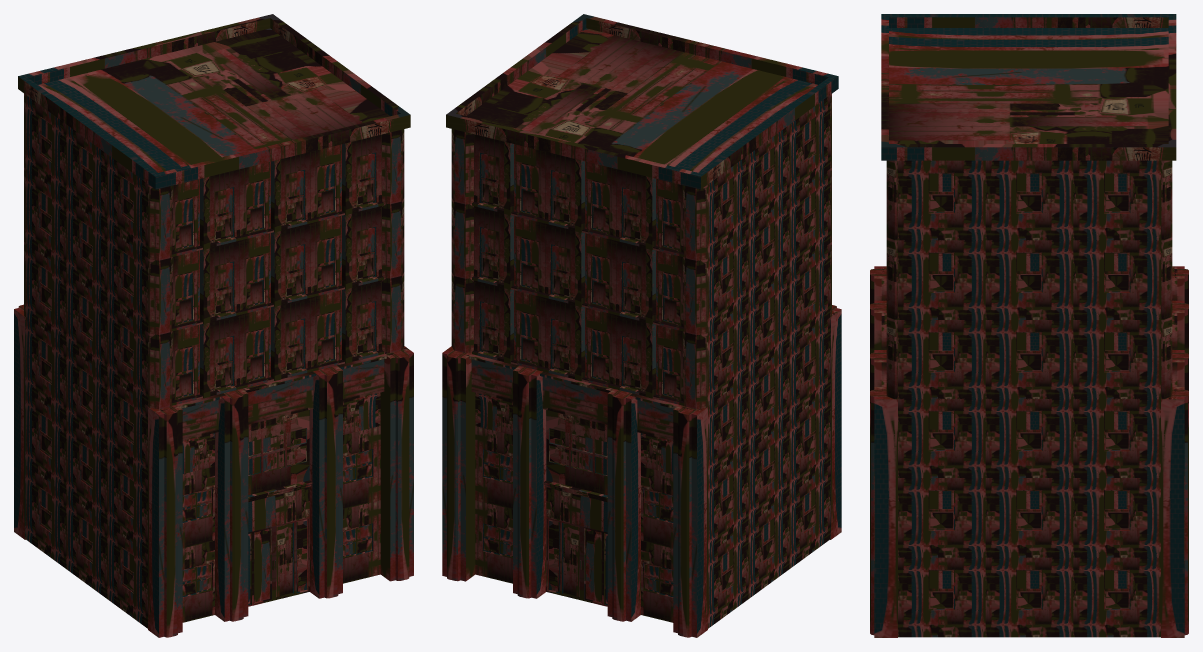
File: teste do djabo.fbx
3 views of the same model, side by side, from view 1: azimuth 30°, elevation 25°; view 2: azimuth 150°, elevation 25°; view 3: azimuth 270°, elevation 25° (orthographic). The views are drawn at different scales.
Visible parts, largest first — view 1: Cube, Cube.244, Cube.024, Cube.089, Cube.250, Cube.070, Cube.236, Cube.255, Cube.258, Cube.260, Cube.238, Cube.263 (+54 smaller); view 2: Cube, Cube.350, Cube.333, Cube.357, Cube.345, Cube.362, Cube.364, Cube.346, Cube.341, Cube.348, Cube.366, Cube.368 (+54 smaller); view 3: Cube, Cube.250, Cube.357, Cube.274, Cube.284, Cube.282, Cube.276, Cube.268, Cube.272, Cube.286, Cube.296, Cube.278 (+39 smaller).
Boxes of the visible parts, bbox=[...] form: Cube: bbox=[18, 14, 410, 189]; Cube.244: bbox=[148, 405, 182, 637]; Cube.024: bbox=[215, 388, 248, 621]; Cube.089: bbox=[309, 365, 342, 598]; Cube.250: bbox=[380, 346, 413, 581]; Cube.070: bbox=[240, 297, 312, 388]; Cube.236: bbox=[240, 223, 312, 314]; Cube.255: bbox=[311, 280, 383, 371]; Cube.258: bbox=[311, 206, 383, 296]; Cube.260: bbox=[311, 134, 383, 222]; Cube.238: bbox=[240, 152, 312, 239]; Cube.263: bbox=[171, 240, 241, 331]; Cube: bbox=[446, 14, 838, 189]; Cube.350: bbox=[673, 405, 707, 637]; Cube.333: bbox=[607, 389, 640, 621]; Cube.357: bbox=[442, 346, 475, 581]; Cube.345: bbox=[513, 366, 546, 598]; Cube.362: bbox=[472, 280, 544, 371]; Cube.364: bbox=[472, 206, 544, 296]; Cube.346: bbox=[543, 223, 615, 314]; Cube.341: bbox=[543, 298, 615, 388]; Cube.348: bbox=[543, 151, 615, 240]; Cube.366: bbox=[472, 134, 544, 222]; Cube.368: bbox=[614, 315, 684, 405]; Cube: bbox=[881, 14, 1176, 160]; Cube.250: bbox=[870, 387, 897, 637]; Cube.357: bbox=[1161, 387, 1188, 637]; Cube.274: bbox=[985, 557, 1073, 637]; Cube.284: bbox=[985, 160, 1073, 240]; Cube.282: bbox=[985, 240, 1073, 319]; Cube.276: bbox=[985, 478, 1073, 557]; Cube.268: bbox=[898, 557, 985, 637]; Cube.272: bbox=[898, 160, 985, 240]; Cube.286: bbox=[1073, 557, 1160, 637]; Cube.296: bbox=[1073, 160, 1160, 240]; Cube.278: bbox=[985, 398, 1073, 477].
Bounding box in the file's own units: 1078 × 1851 × 1090.
